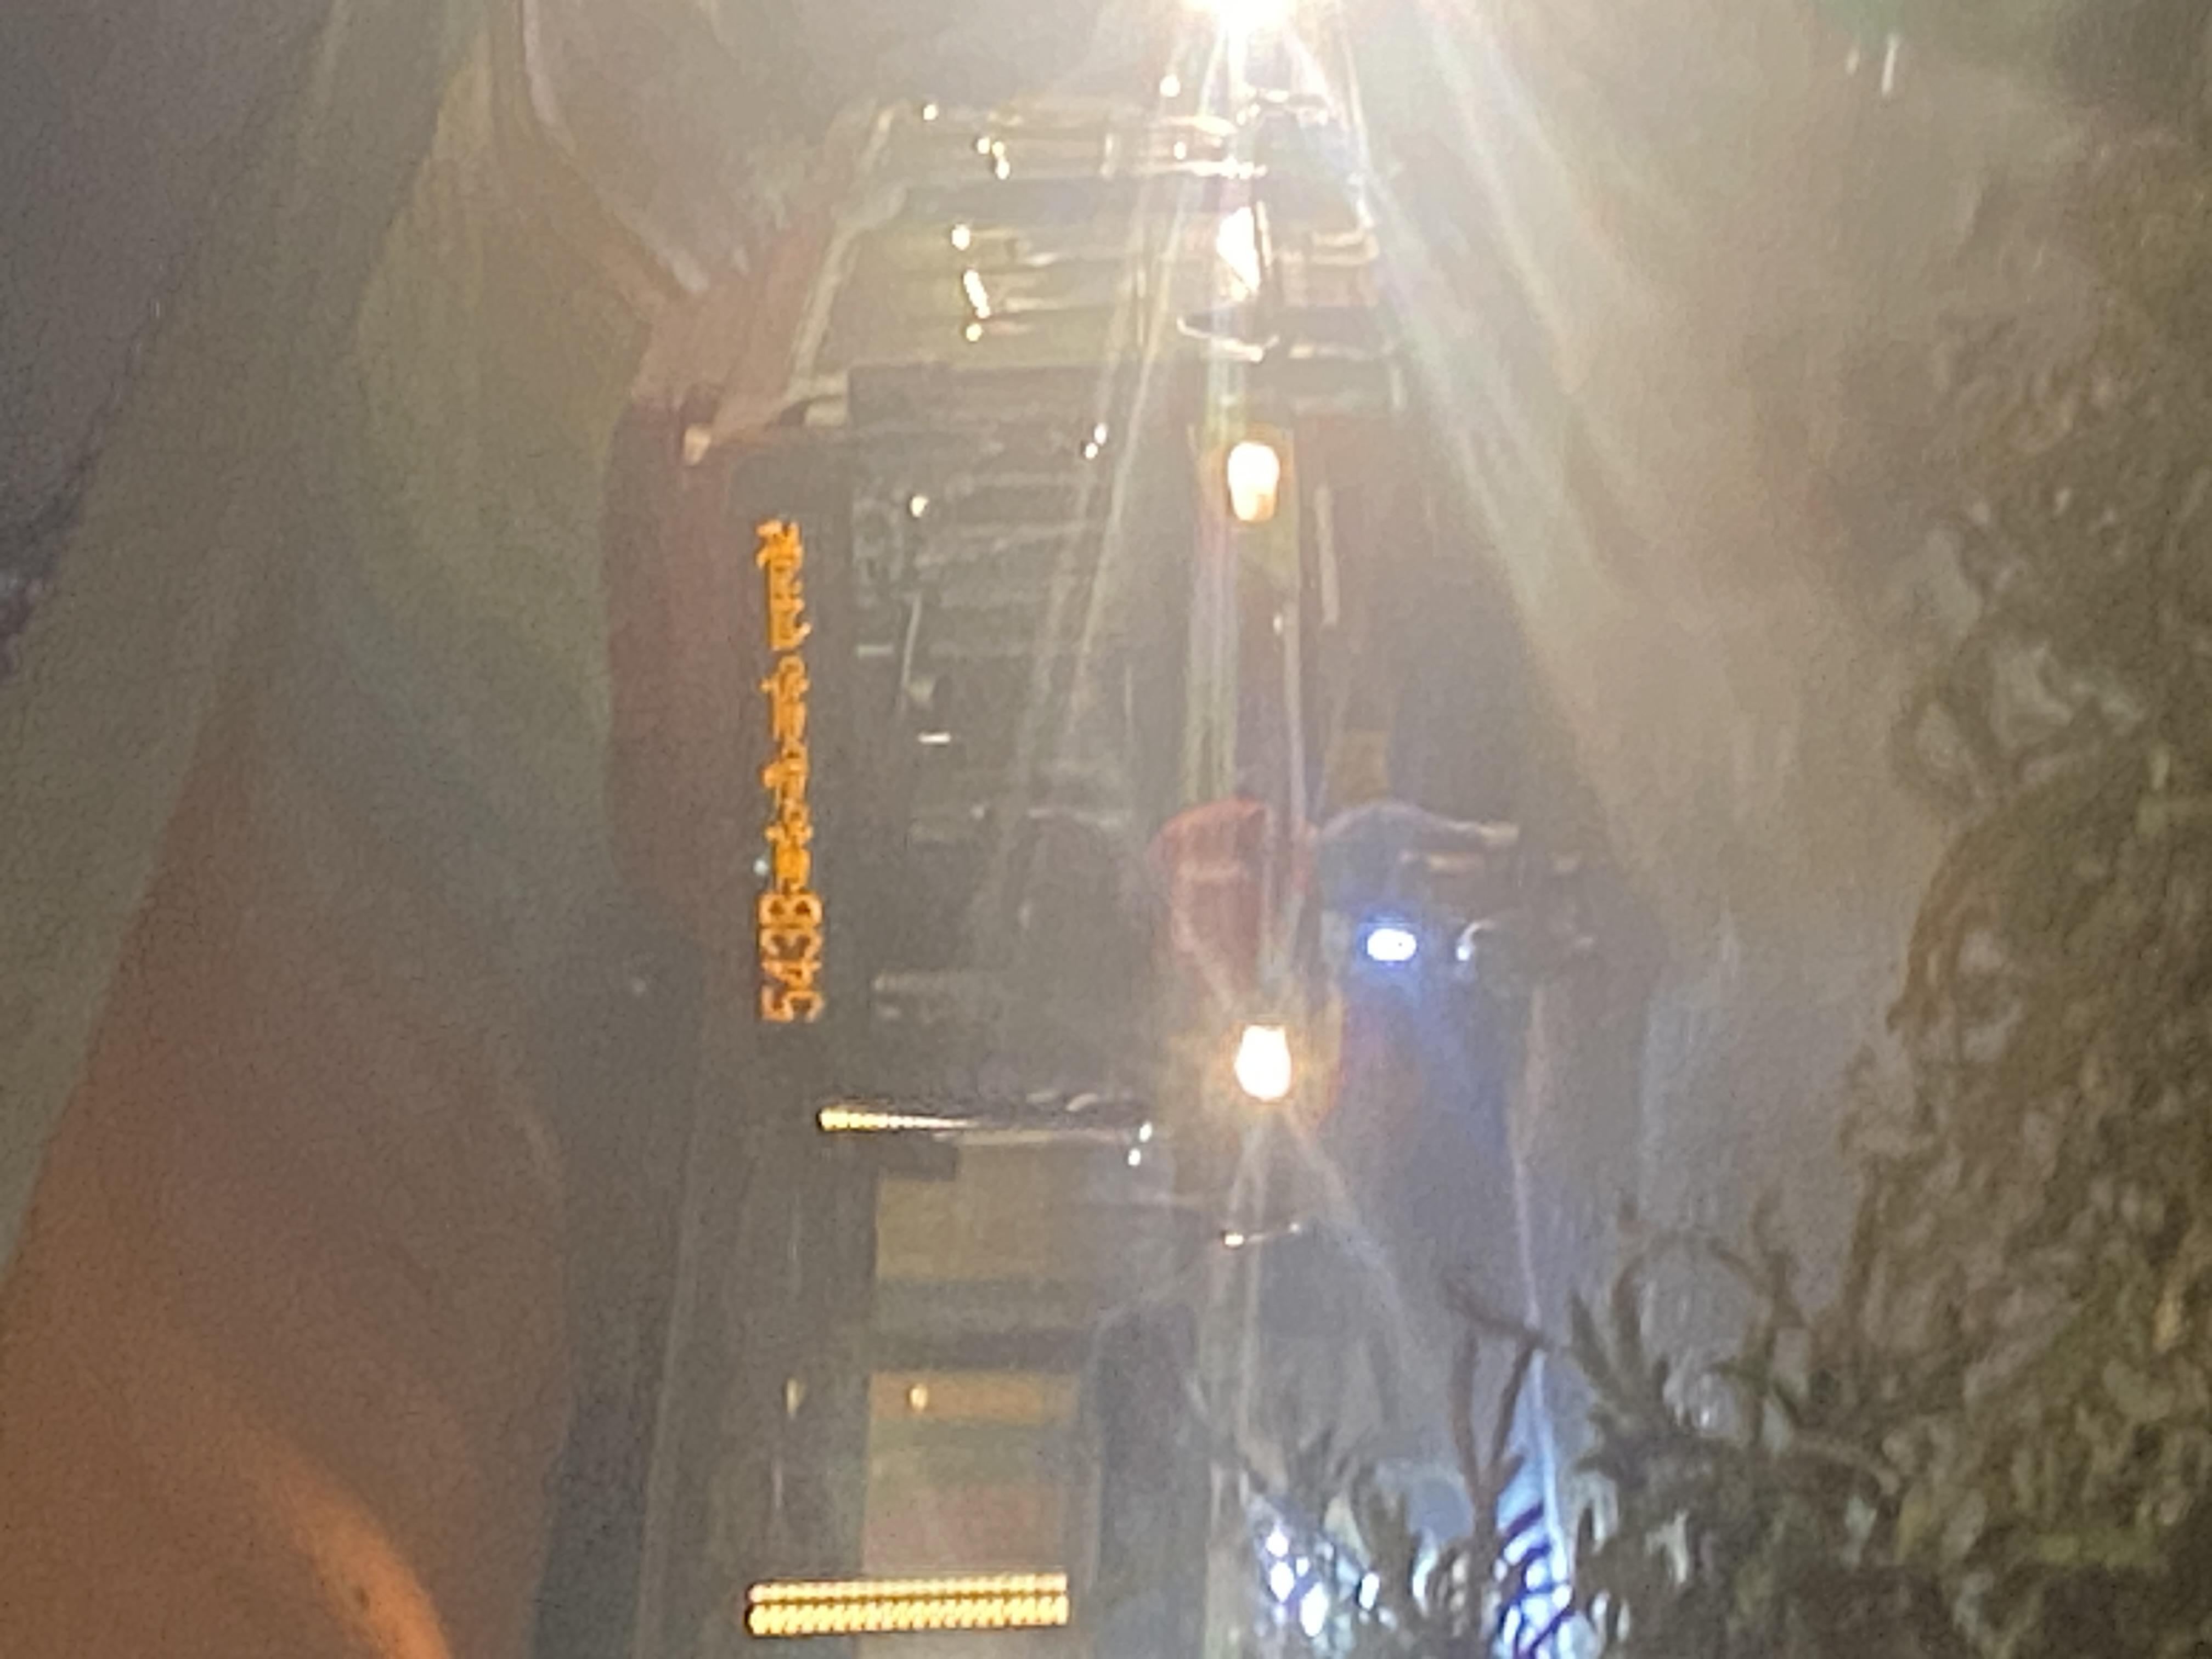Bus: (577, 340, 1393, 1131)
Display Board: (702, 439, 867, 1053)
